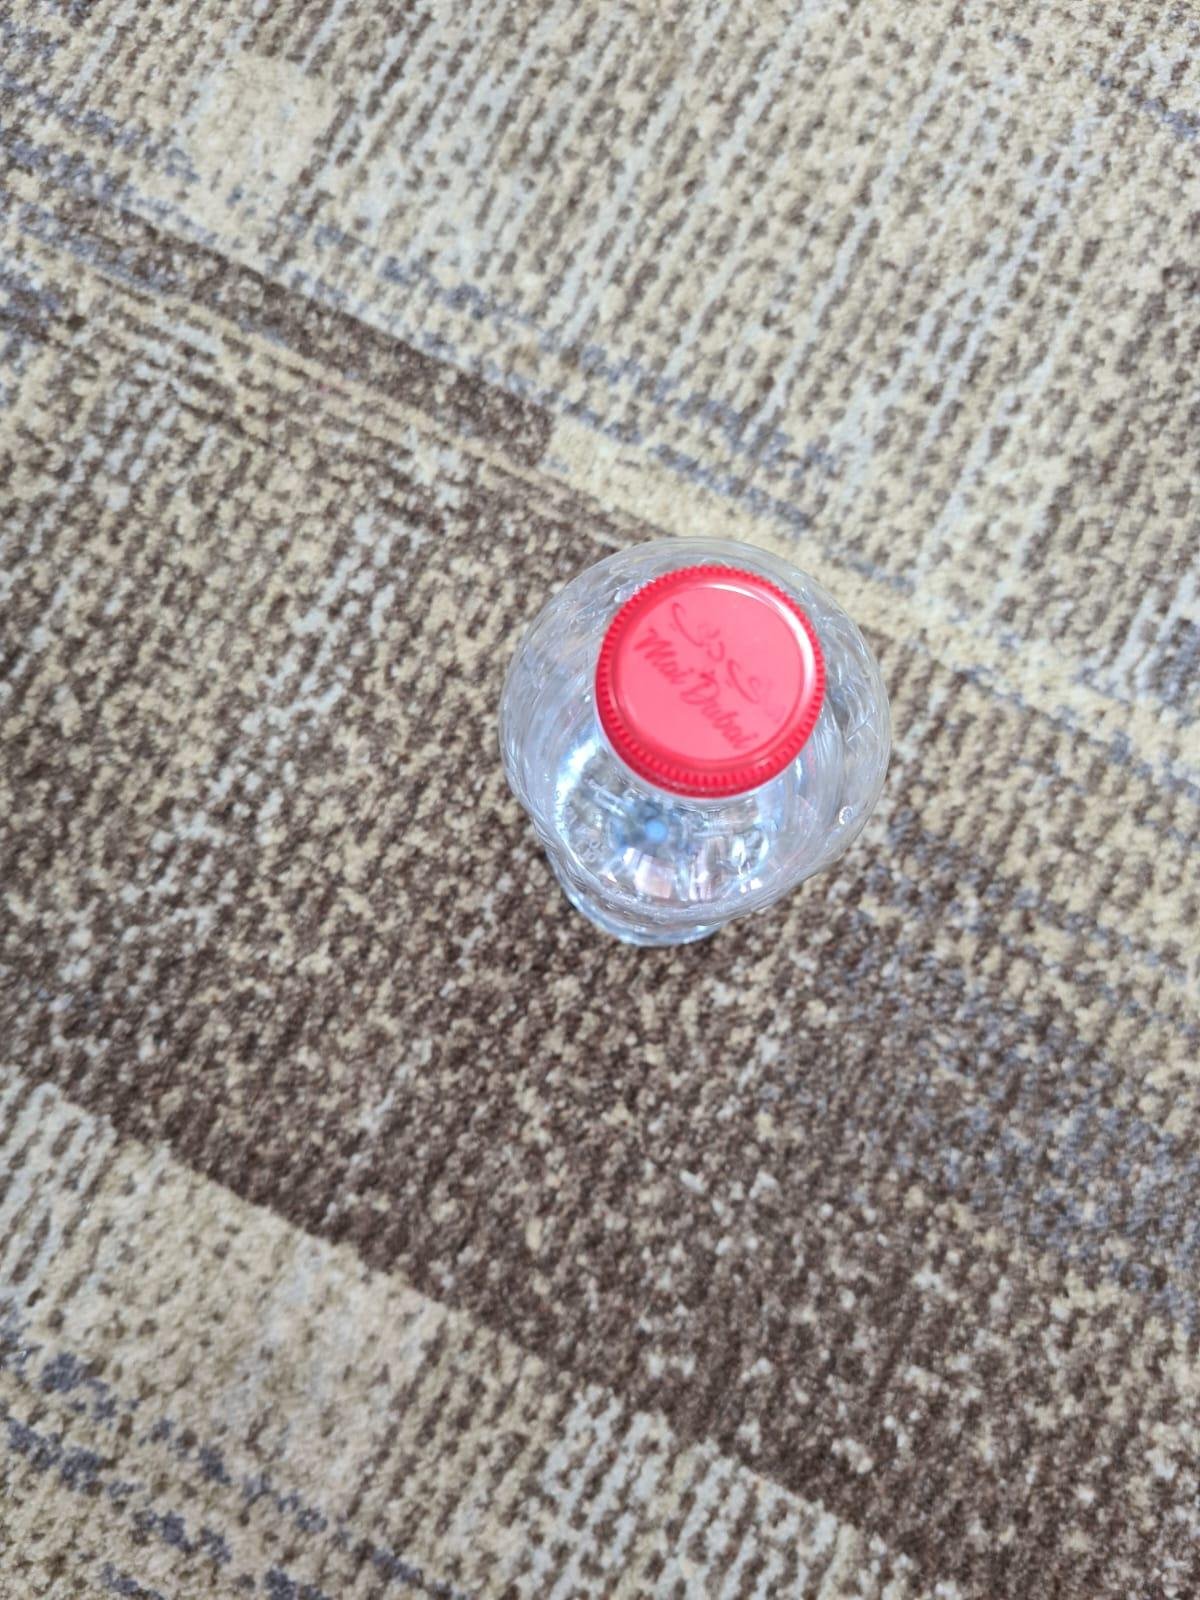bottle: (475, 506, 924, 957)
